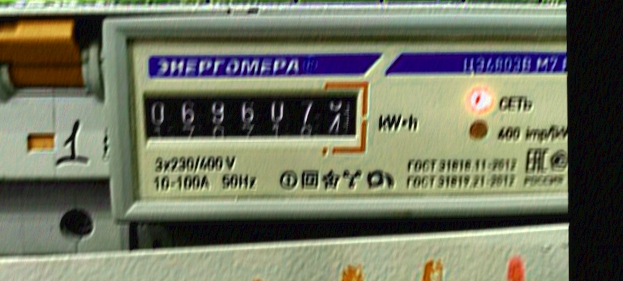0: (147, 100, 164, 124), (267, 97, 282, 122)
4: (324, 112, 341, 136)
6: (237, 98, 254, 123), (177, 100, 194, 124)
7: (297, 99, 312, 125)
9: (207, 100, 223, 124)
screen: (128, 76, 371, 153)
